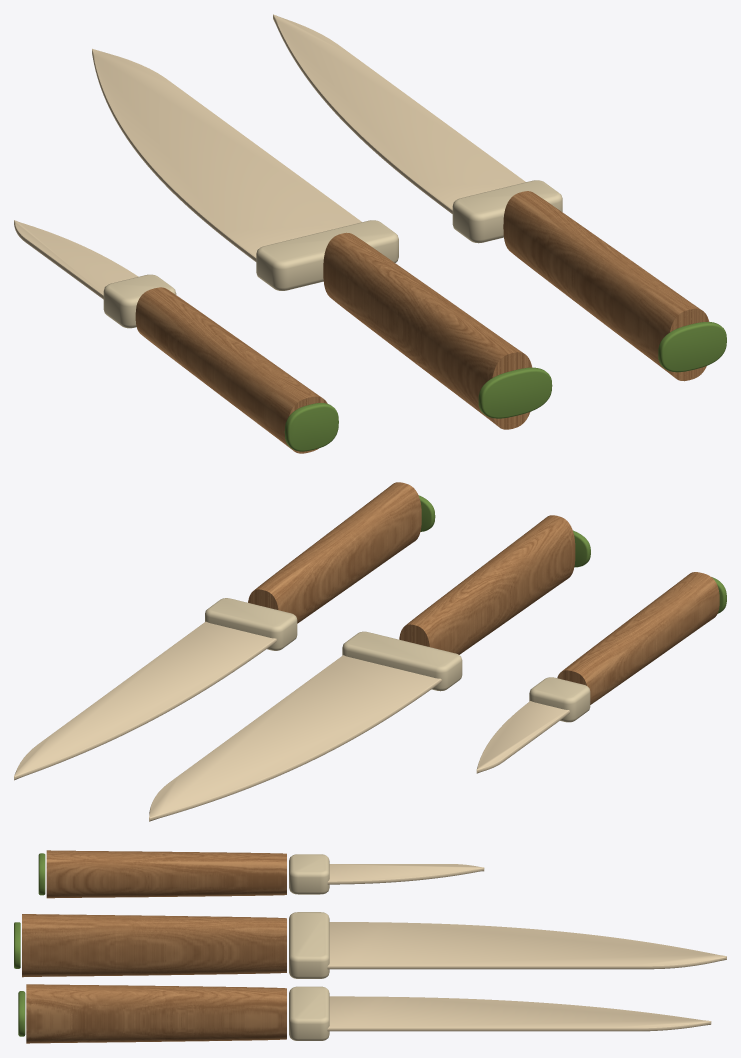
The model's file is knives.glb.
3 renders of one model, top to bottom at view 1: azimuth 30°, elevation 25°; view 2: azimuth 150°, elevation 25°; view 3: azimuth 270°, elevation 25°, orthographic. The views are drawn at different scales.
Visible parts, largest first — view 1: Green Knife Set of 3; view 2: Green Knife Set of 3; view 3: Green Knife Set of 3.
Boxes of the visible parts, box(x1,y1,x2,y2) form: Green Knife Set of 3: box(14, 14, 726, 453); Green Knife Set of 3: box(14, 482, 726, 821); Green Knife Set of 3: box(14, 850, 726, 1043).
Size of the model in its own units: 0.1765 by 0.029 by 0.3175.
Materials: 4 (1 with a texture image).
